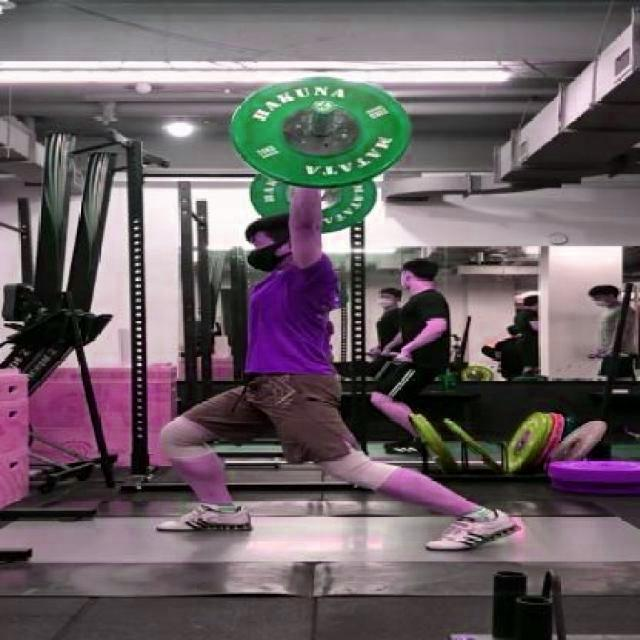barbell: (227, 74, 415, 192)
